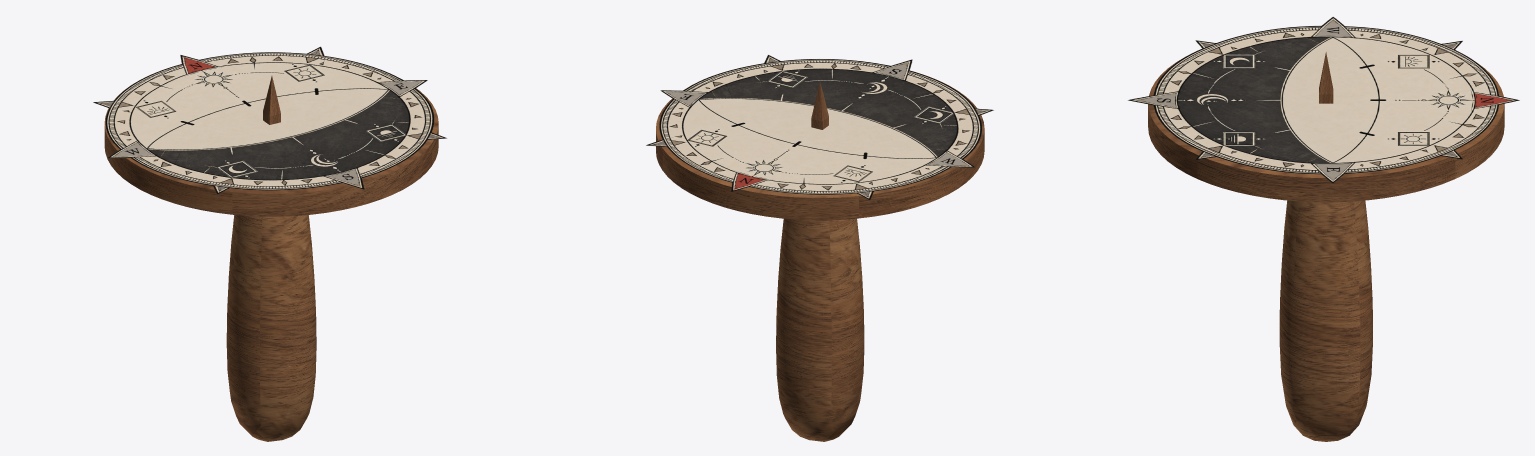
File: Compass.glb
The picture shows the model from 3 angles, left to right: view 1: azimuth 30°, elevation 25°; view 2: azimuth 150°, elevation 25°; view 3: azimuth 270°, elevation 25°; orthographic projection. The views are drawn at different scales.
Visible parts, largest first — view 1: Симметричный компас дня и ночи, Cylinder.008, Cube.005; view 2: Симметричный компас дня и ночи, Cylinder.008, Cube.005; view 3: Симметричный компас дня и ночи, Cylinder.008, Cube.005.
Part boxes in pixels (box(x1,y1,x2,y2)): Симметричный компас дня и ночи: box(93, 46, 446, 194); Cylinder.008: box(104, 65, 438, 441); Cube.005: box(263, 76, 280, 124); Симметричный компас дня и ночи: box(646, 55, 993, 199); Cylinder.008: box(656, 71, 984, 441); Cube.005: box(811, 81, 828, 129); Симметричный компас дня и ночи: box(1128, 17, 1519, 183); Cylinder.008: box(1148, 57, 1504, 441); Cube.005: box(1319, 52, 1333, 103).
Bounding box in the file's own units: 2.3 × 2.39 × 2.3.
2 materials, 2 textured.
